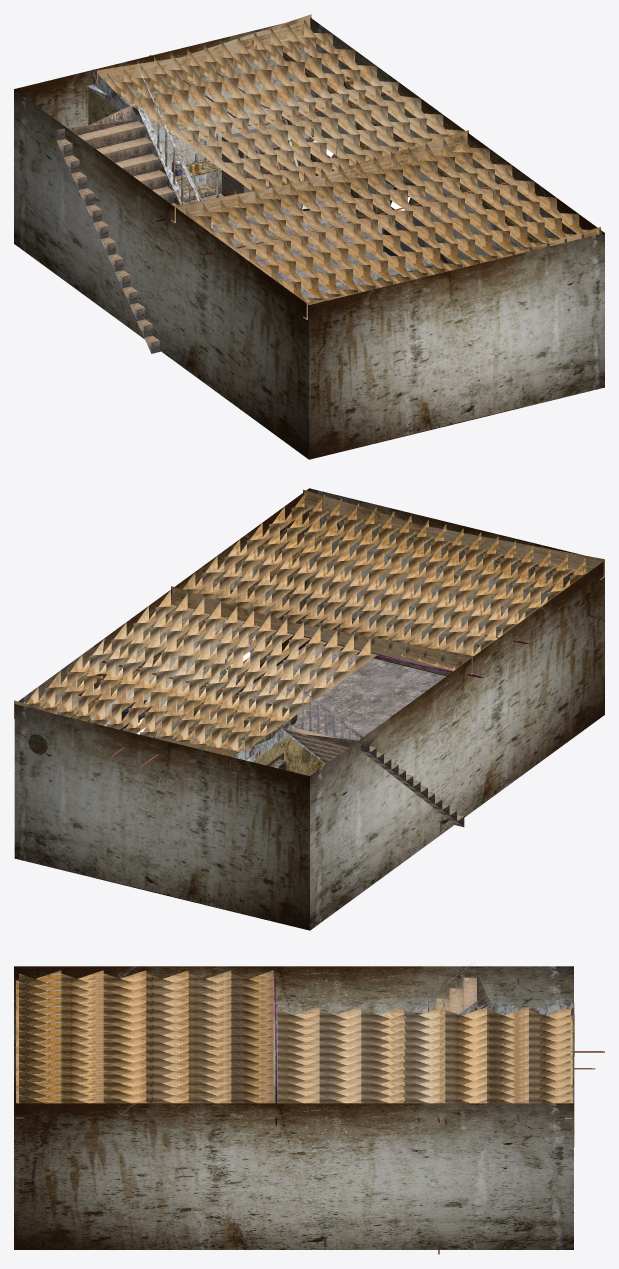
File: basement.glb
3 views of the same model, one above another, from view 1: azimuth 30°, elevation 25°; view 2: azimuth 150°, elevation 25°; view 3: azimuth 270°, elevation 25° (orthographic). The views are drawn at different scales.
Bounding box in the file's own units: 22.3 × 13.21 × 36.48.
Materials: 38 (36 with a texture image).
